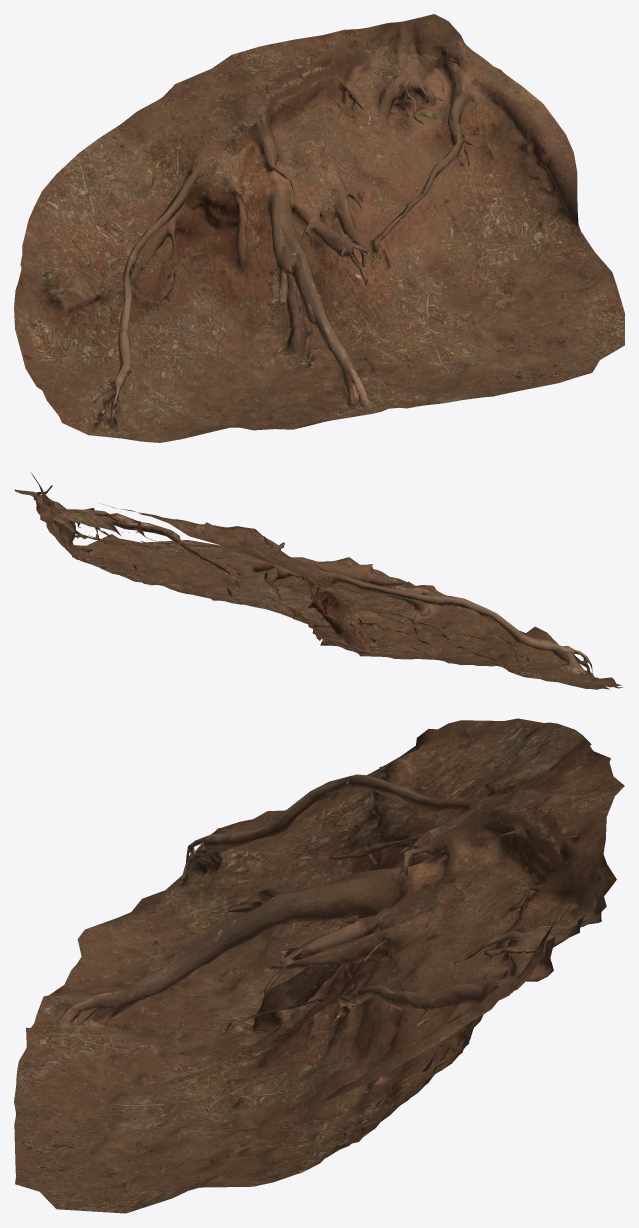
3 renders of one model, top to bottom at view 1: azimuth 30°, elevation 25°; view 2: azimuth 150°, elevation 25°; view 3: azimuth 270°, elevation 25°, orthographic. The views are drawn at different scales.
Parts seen in each view (by area): view 1: root_cluster_01_lod0; view 2: root_cluster_01_lod0; view 3: root_cluster_01_lod0.
Boxes of the visible parts, x1=… form: root_cluster_01_lod0: x1=14, y1=14, x2=624, y2=442; root_cluster_01_lod0: x1=14, y1=472, x2=622, y2=689; root_cluster_01_lod0: x1=14, y1=718, x2=624, y2=1213.
Bounding box in the file's own units: 4.12 × 1.5 × 2.67.
Materials: 1 (1 with a texture image).
